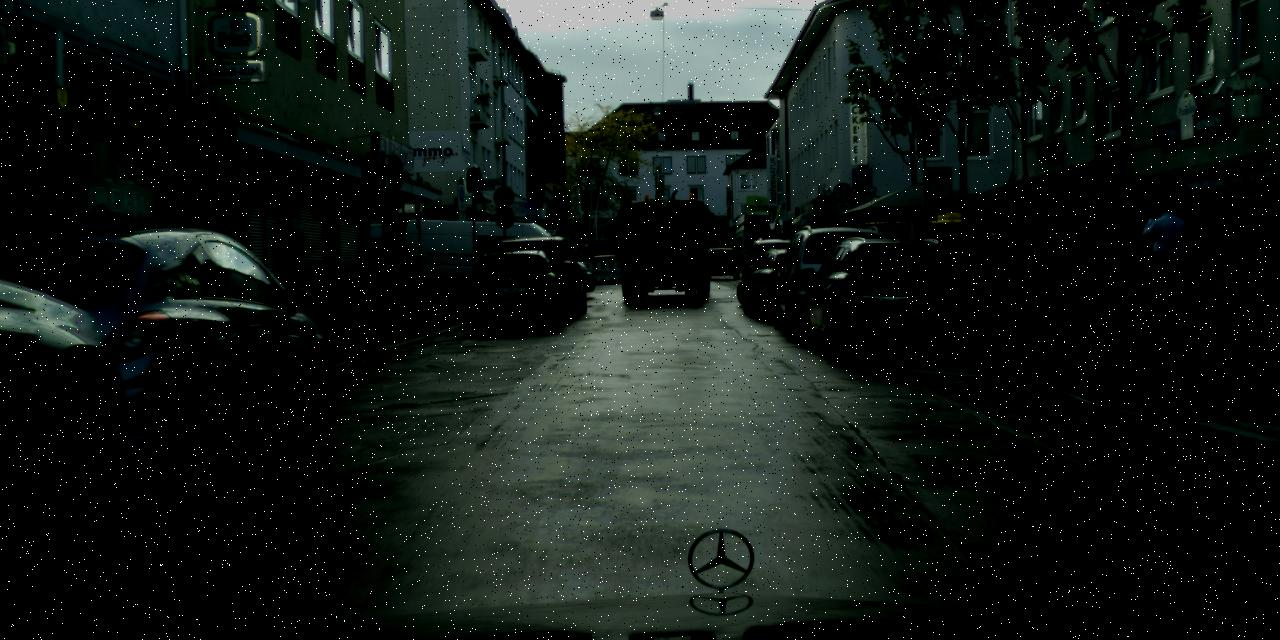ped: (1139, 198, 1192, 328), (956, 231, 1008, 360), (1104, 223, 1135, 301), (994, 234, 1017, 290), (1024, 236, 1044, 288), (941, 229, 955, 265)
